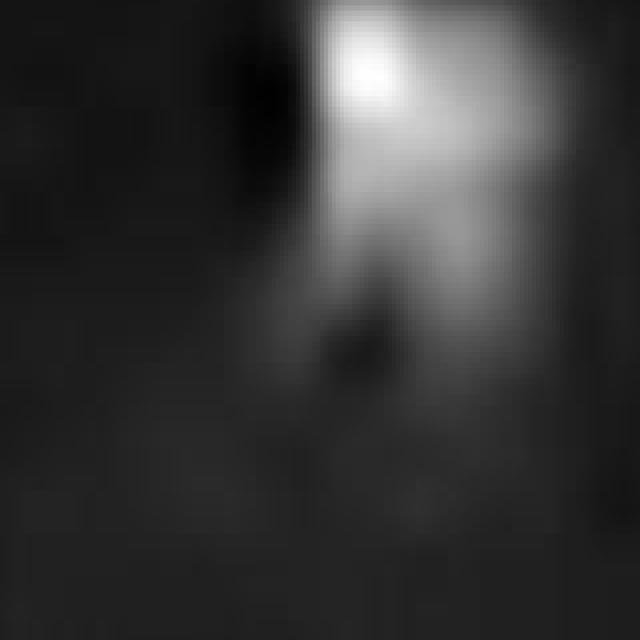person: (277, 1, 581, 406)
